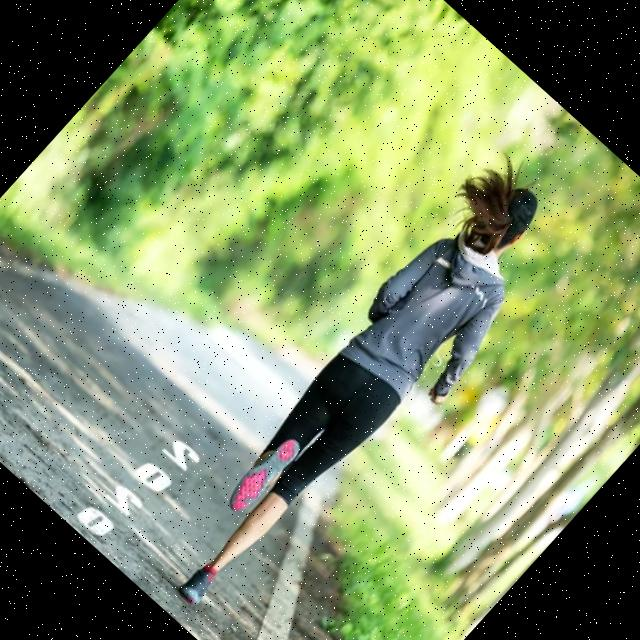Person: (138, 157, 588, 636)
